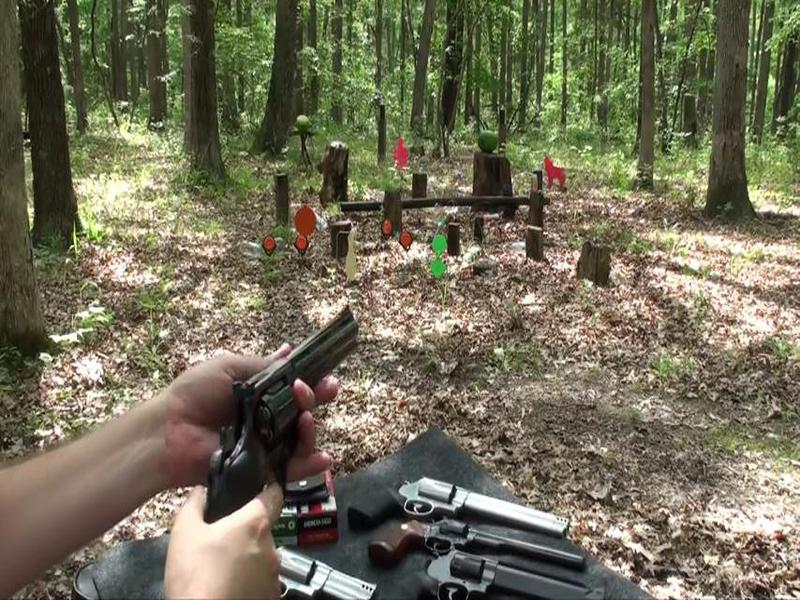Revolver: (184, 294, 396, 599)
